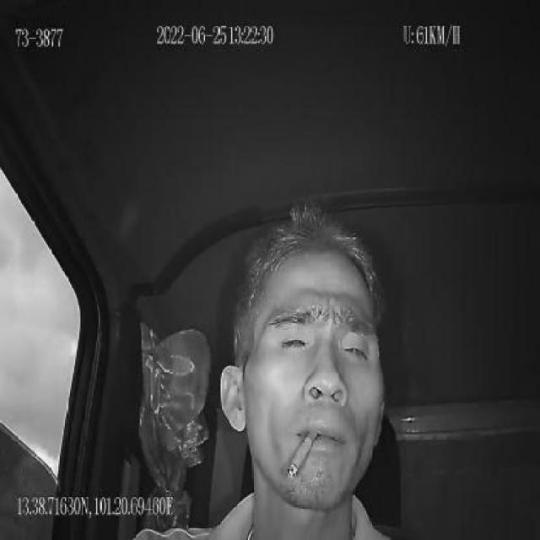smoking: (287, 427, 318, 480)
